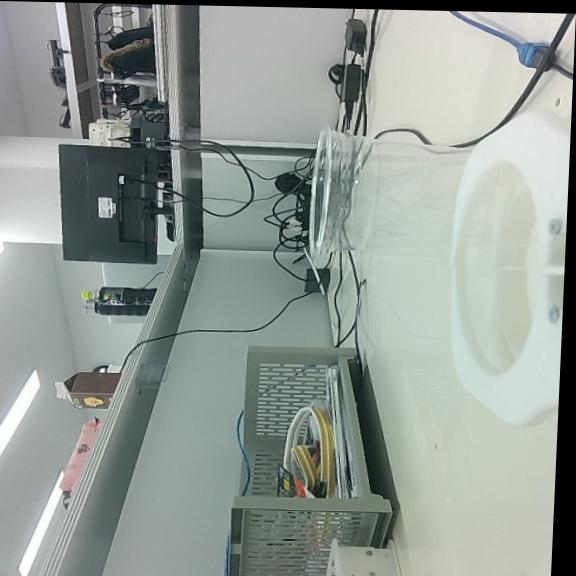Plastik: (309, 125, 469, 259)
